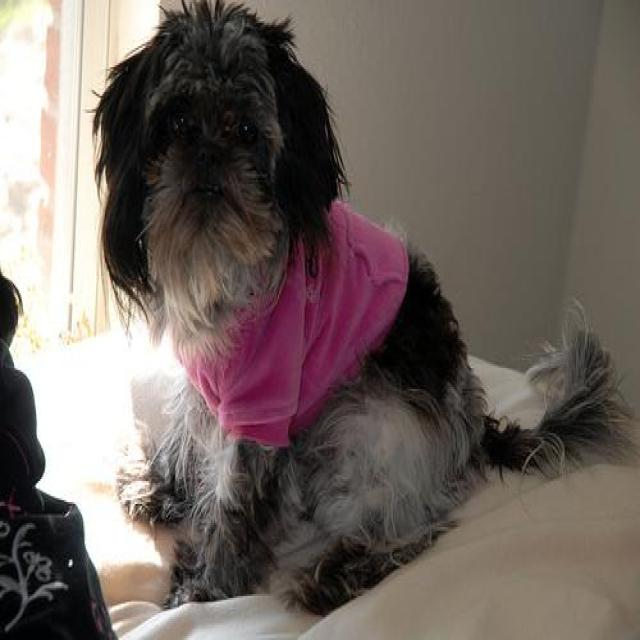shih_tzu: (83, 2, 630, 615)
